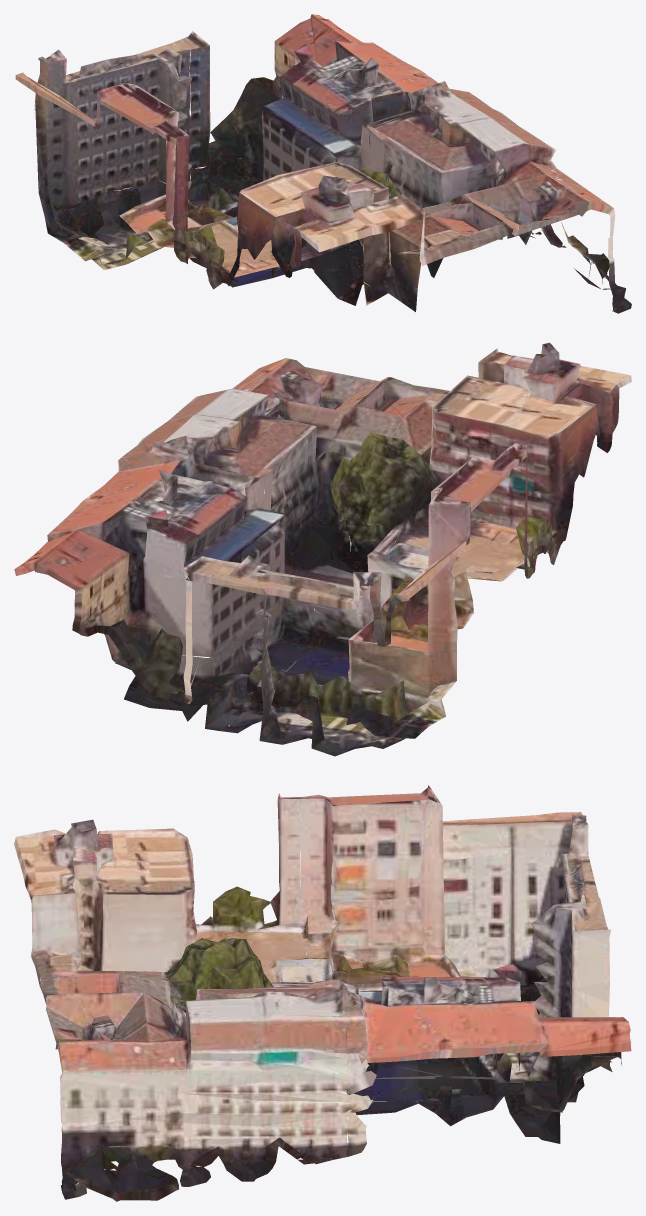
The picture shows the model from 3 angles, top to bottom: view 1: azimuth 30°, elevation 25°; view 2: azimuth 150°, elevation 25°; view 3: azimuth 270°, elevation 25°; orthographic projection. The views are drawn at different scales.
Visible parts, largest first — view 1: Mesh_0; view 2: Mesh_0; view 3: Mesh_0.
Boxes of the visible parts, x1,y1,x2,y2 form: Mesh_0: (15, 14, 631, 313); Mesh_0: (14, 342, 631, 756); Mesh_0: (14, 785, 631, 1201).
Size of the model in its own units: 66.87 by 35.78 by 82.73.
Materials: 1 (1 with a texture image).
